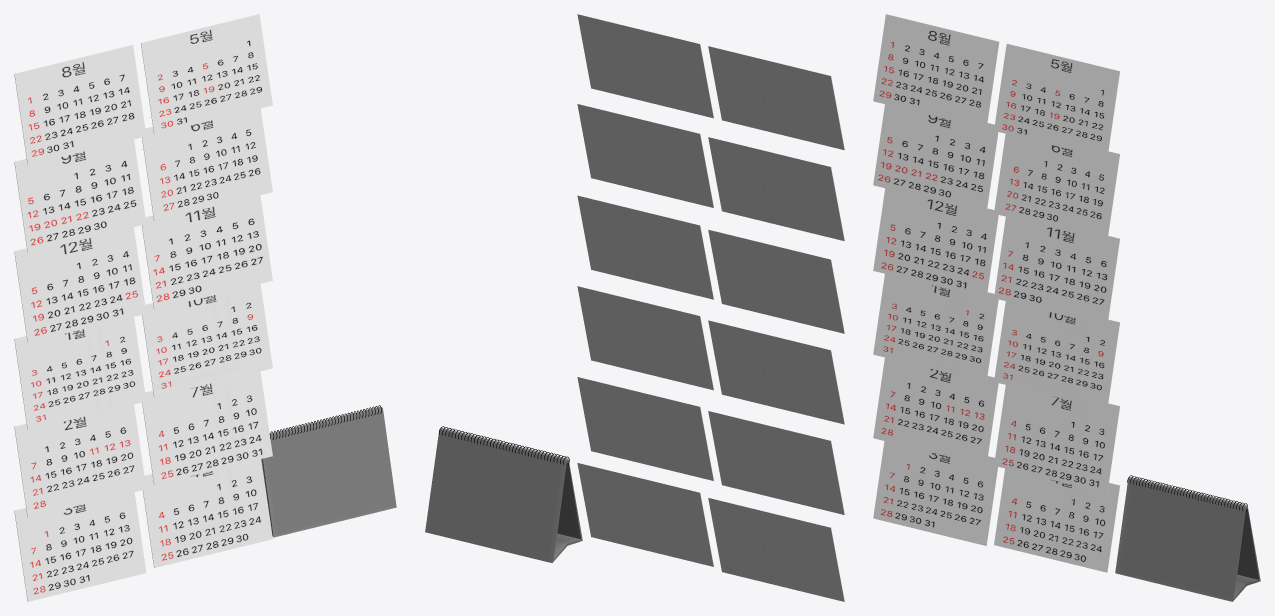
The model's file is Calendar5.fbx.
3 renders of one model, left to right at view 1: azimuth 30°, elevation 25°; view 2: azimuth 150°, elevation 25°; view 3: azimuth 330°, elevation 25°, orthographic. The views are drawn at different scales.
Parts seen in each view (by area): view 1: Calendar; view 2: Calendar; view 3: Calendar.
Part boxes in pixels (box(x1,y1,x2,y2)): Calendar: box(14, 14, 396, 601); Calendar: box(425, 14, 844, 601); Calendar: box(873, 14, 1260, 601).
Size of the model in its own units: 22.94 by 30.48 by 3.55.
1 material, 1 textured.
